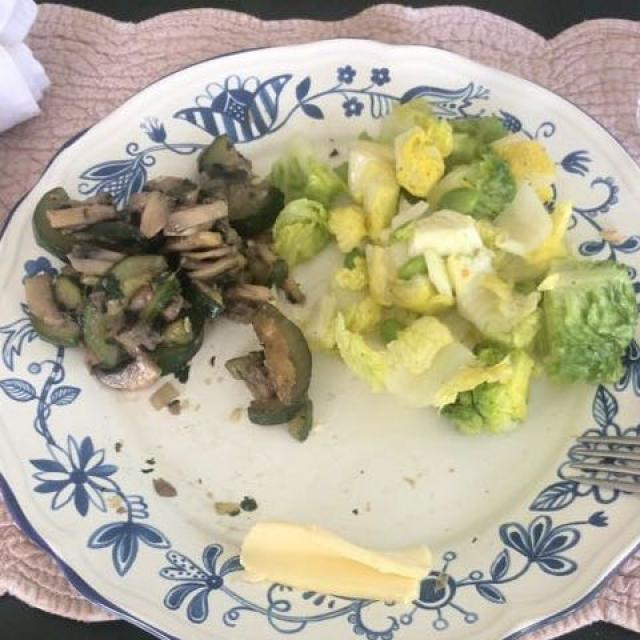butter: (234, 515, 442, 618)
mushrooms: (31, 178, 225, 349)
salad: (255, 64, 633, 434)
zucchini: (34, 125, 321, 429)
